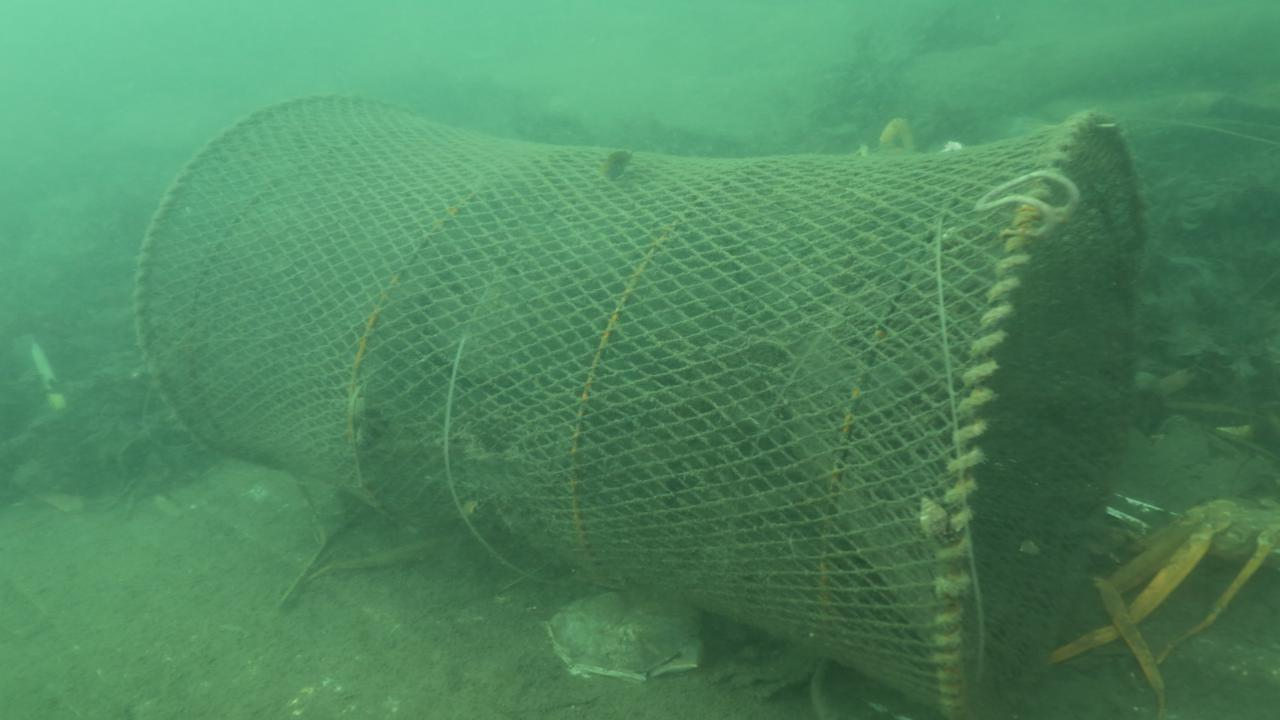spring fish trap: (128, 89, 1147, 720)
